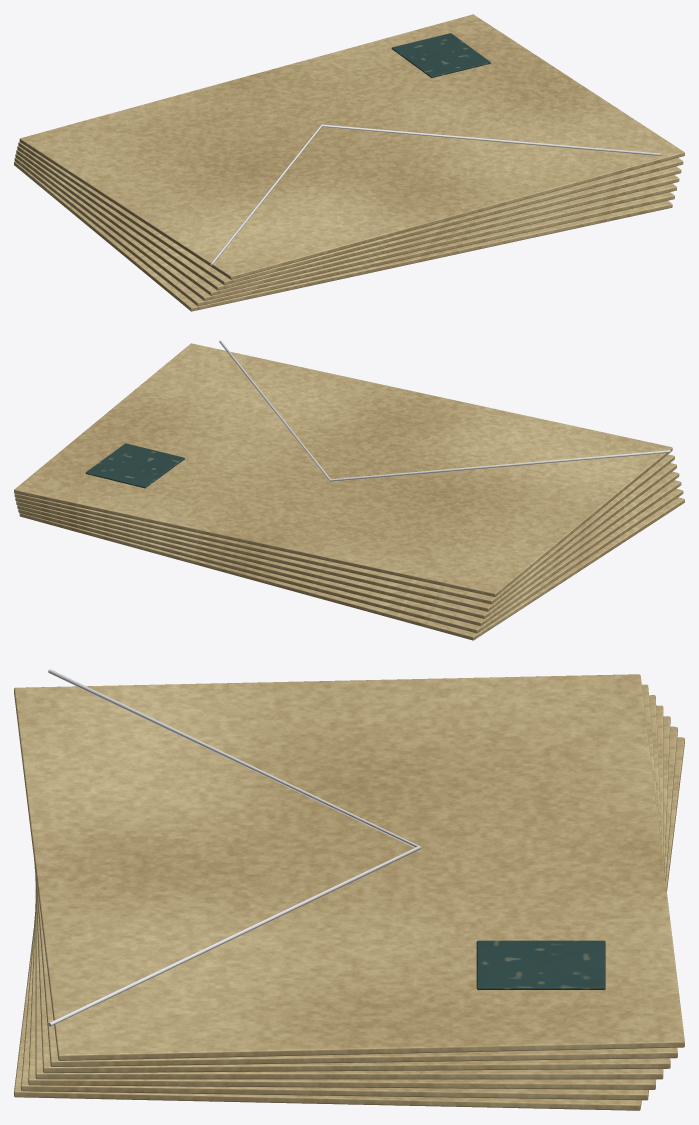
File: Letters.fbx
The picture shows the model from 3 angles, top to bottom: view 1: azimuth 30°, elevation 25°; view 2: azimuth 150°, elevation 25°; view 3: azimuth 270°, elevation 25°; orthographic projection. The views are drawn at different scales.
Visible parts, largest first — view 1: Letters_Paper, Letters_BookBlue, Letters_Walnut; view 2: Letters_Paper, Letters_BookBlue, Letters_Walnut; view 3: Letters_Paper, Letters_BookBlue, Letters_Walnut.
Part boxes in pixels (x1,y1,x2,y2): Letters_Paper: (14,14,684,311); Letters_BookBlue: (391,33,490,77); Letters_Walnut: (210,124,661,265); Letters_Paper: (14,343,684,640); Letters_BookBlue: (85,443,184,488); Letters_Walnut: (219,340,670,481); Letters_Paper: (14,674,684,1110); Letters_BookBlue: (476,940,605,989); Letters_Walnut: (48,669,420,1026).
Bounding box in the file's own units: 26.36 × 2.55 × 19.25.
